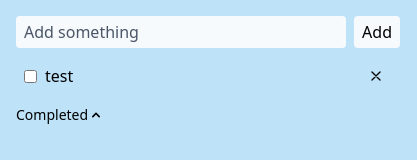
Test: should remove todo
Click the button named "remove": {"x": 376, "y": 76} x1=368 y1=68 x2=384 y2=84
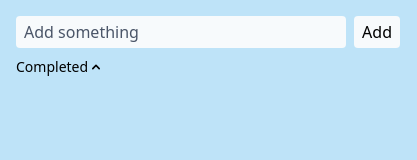
Now the text "test" is gone
